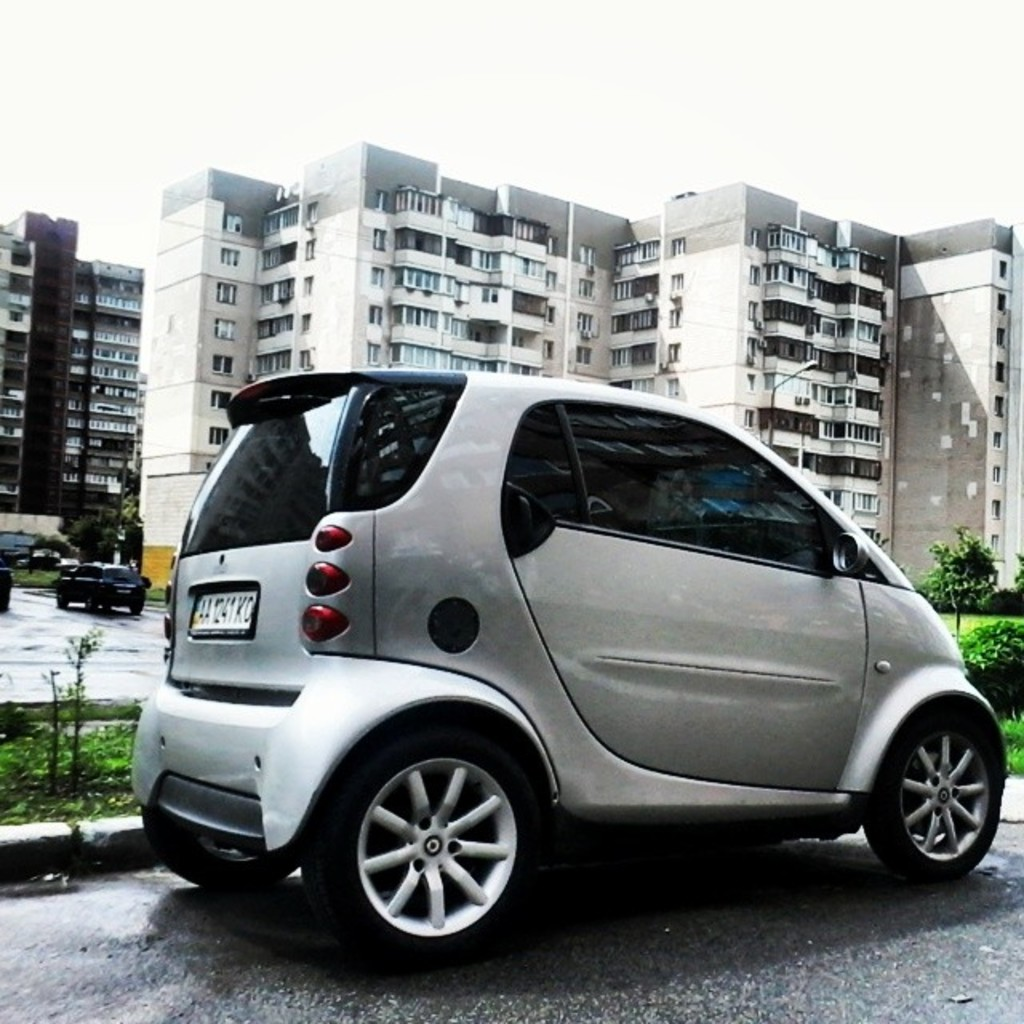Car: (147, 363, 1006, 961)
